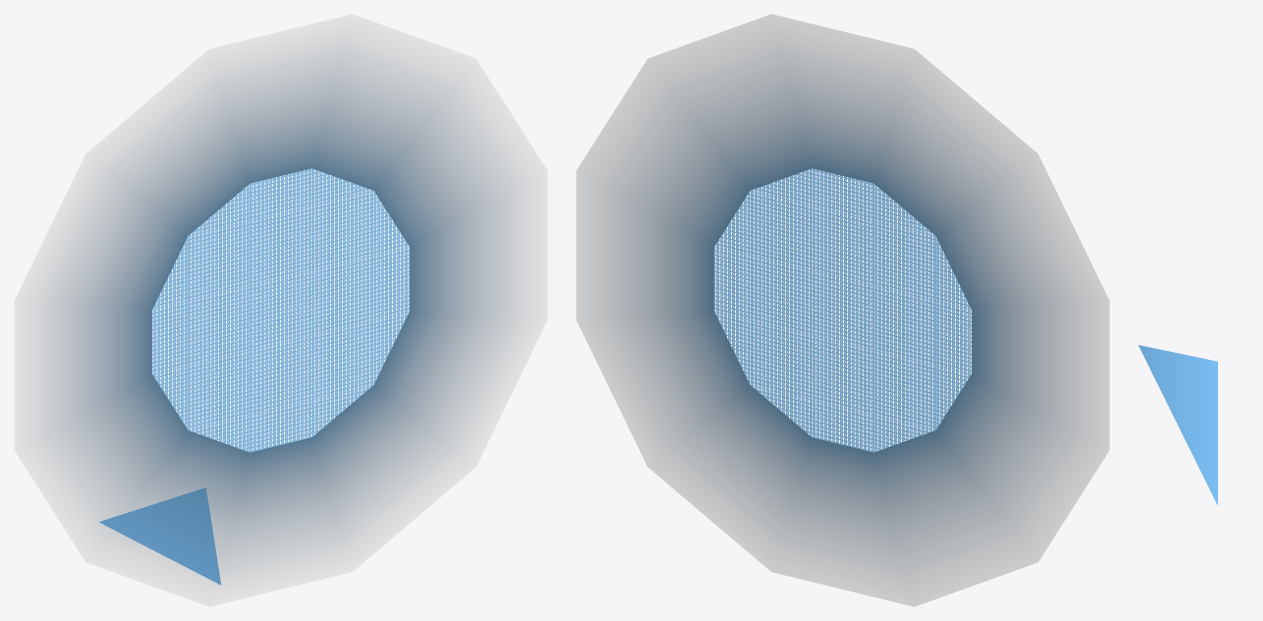
Rendered from ocean.glb.
3 views of the same model, side by side, from view 1: azimuth 30°, elevation 25°; view 2: azimuth 150°, elevation 25°; view 3: azimuth 270°, elevation 25° (orthographic). The views are drawn at different scales.
Parts seen in each view (by area): view 1: ocean; view 2: ocean; view 3: ocean.
Part boxes in pixels (x1,y1,x2,y2): ocean: (14,14,547,606); ocean: (576,14,1109,606); ocean: (1138,345,1217,505).
Bounding box in the file's own units: 11190 × 11190 × 2130.
2 materials, 2 textured.
